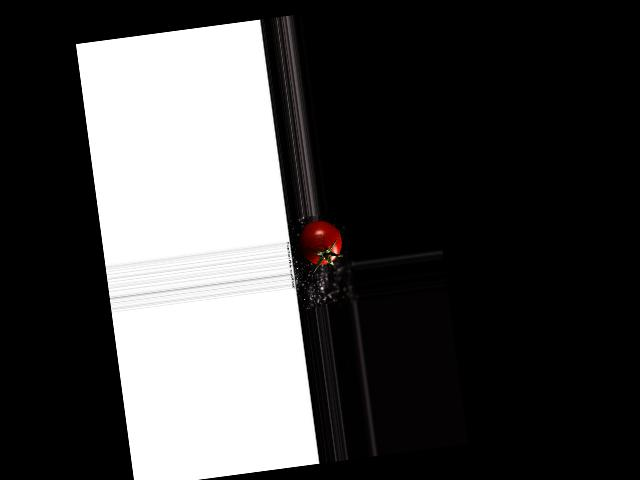tomato: (296, 218, 344, 267)
